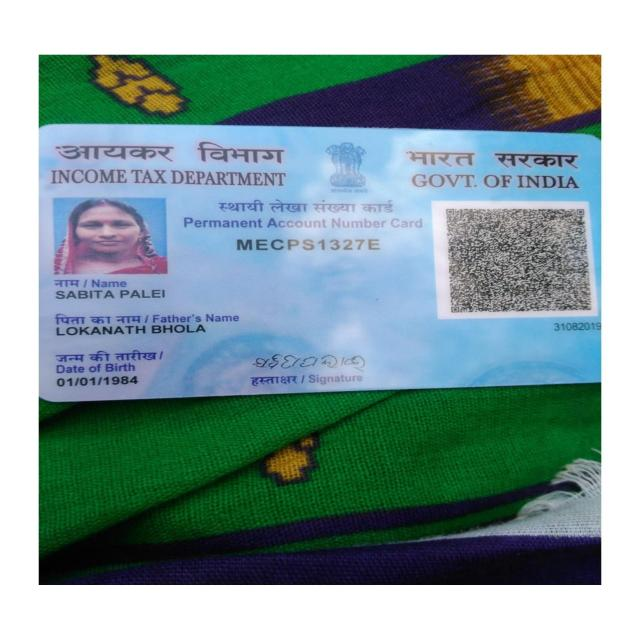pan_card: (45, 124, 598, 399)
